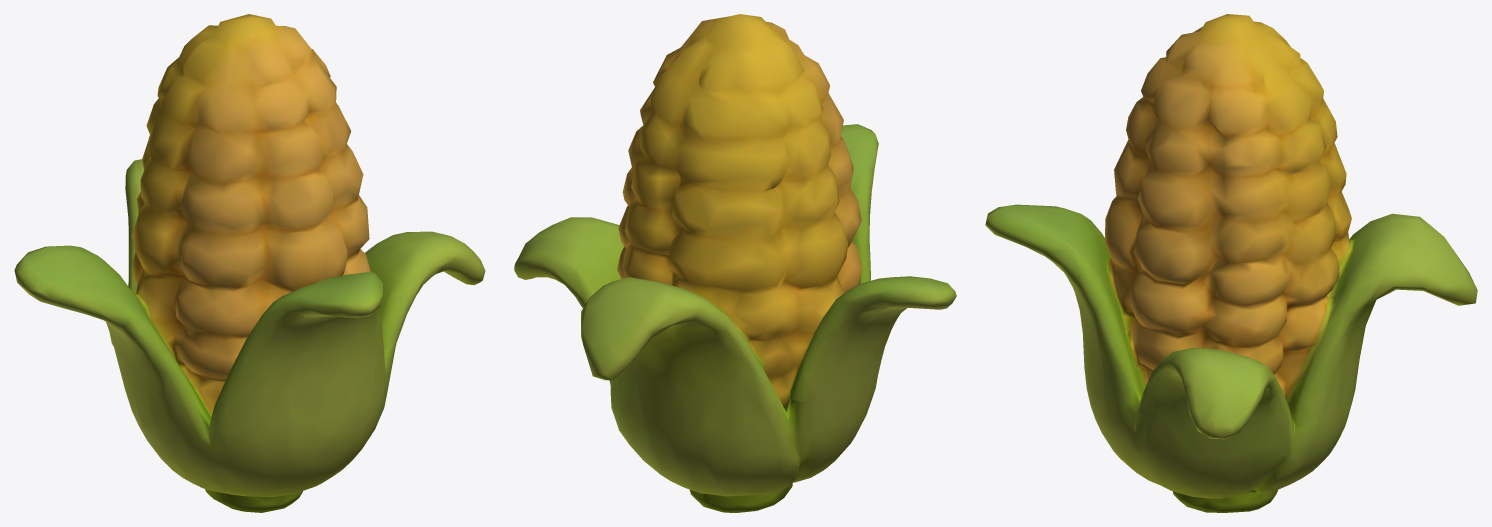
The model's file is corn.glb.
3 views of the same model, side by side, from view 1: azimuth 30°, elevation 25°; view 2: azimuth 150°, elevation 25°; view 3: azimuth 270°, elevation 25° (orthographic).
Parts seen in each view (by area): view 1: tripo_node_766b0d74-958c-45c6-8585-02e6934a055b; view 2: tripo_node_766b0d74-958c-45c6-8585-02e6934a055b; view 3: tripo_node_766b0d74-958c-45c6-8585-02e6934a055b.
Boxes of the visible parts, box(x1,y1,x2,y2) form: tripo_node_766b0d74-958c-45c6-8585-02e6934a055b: box(14, 14, 485, 512); tripo_node_766b0d74-958c-45c6-8585-02e6934a055b: box(514, 14, 956, 512); tripo_node_766b0d74-958c-45c6-8585-02e6934a055b: box(985, 14, 1477, 512).
Bounding box in the file's own units: 0.9768 × 1 × 0.9322.
Materials: 1 (1 with a texture image).
